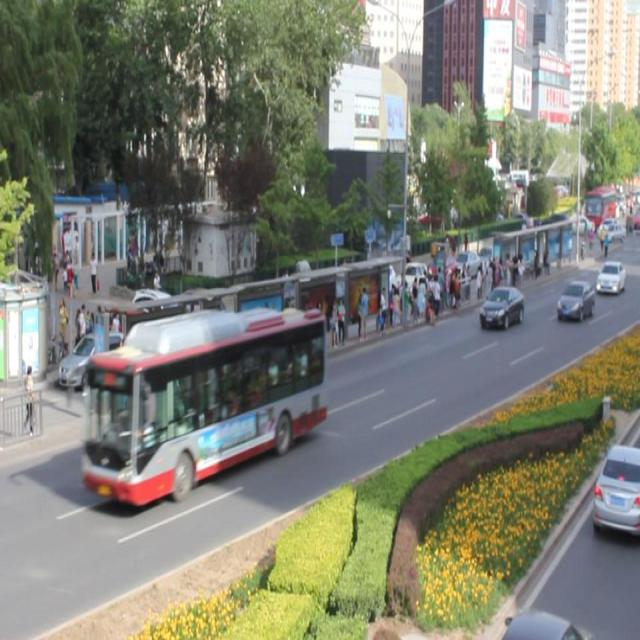car: (479, 284, 522, 332), (555, 280, 592, 322), (593, 262, 623, 294)
van: (82, 306, 326, 502)
